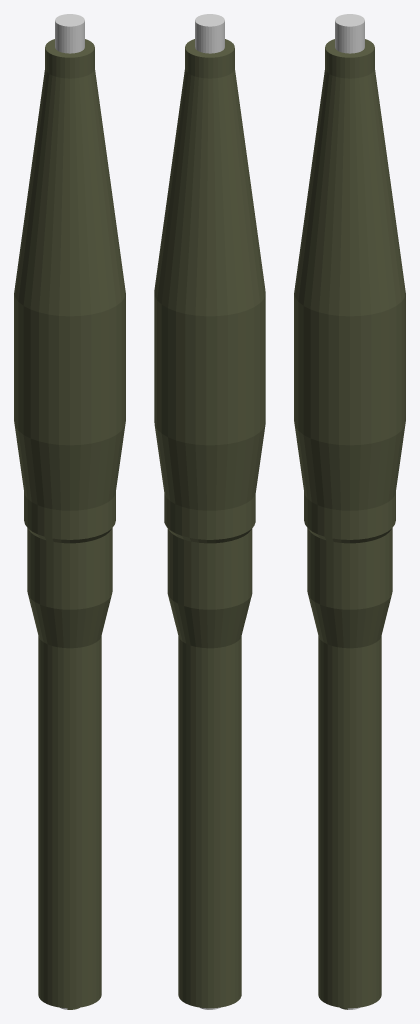
Rendered from rpg.glb.
3 views of the same model, side by side, from view 1: azimuth 90°, elevation 25°; view 2: azimuth 210°, elevation 25°; view 3: azimuth 270°, elevation 25° (orthographic).
Visible parts, largest first — view 1: Cylinder; view 2: Cylinder; view 3: Cylinder.
Boxes of the visible parts, left/top/right/bottom form: Cylinder: left=14, top=14, right=125, bottom=1009; Cylinder: left=154, top=14, right=265, bottom=1009; Cylinder: left=294, top=14, right=405, bottom=1009.
Bounding box in the file's own units: 0.3152 × 3.07 × 0.3152.
